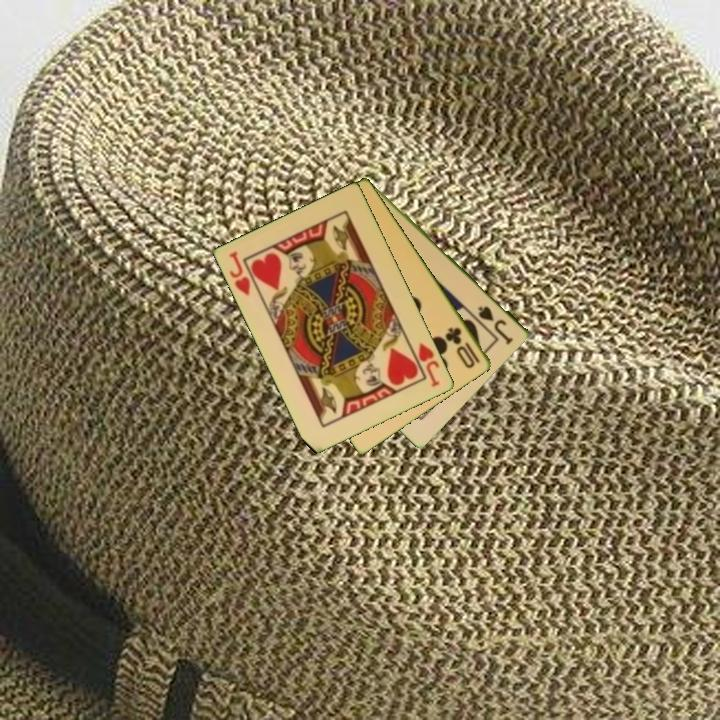10c: (442, 324, 483, 371)
Jh: (415, 339, 443, 390), (226, 248, 254, 299)
Js: (475, 303, 516, 347)
